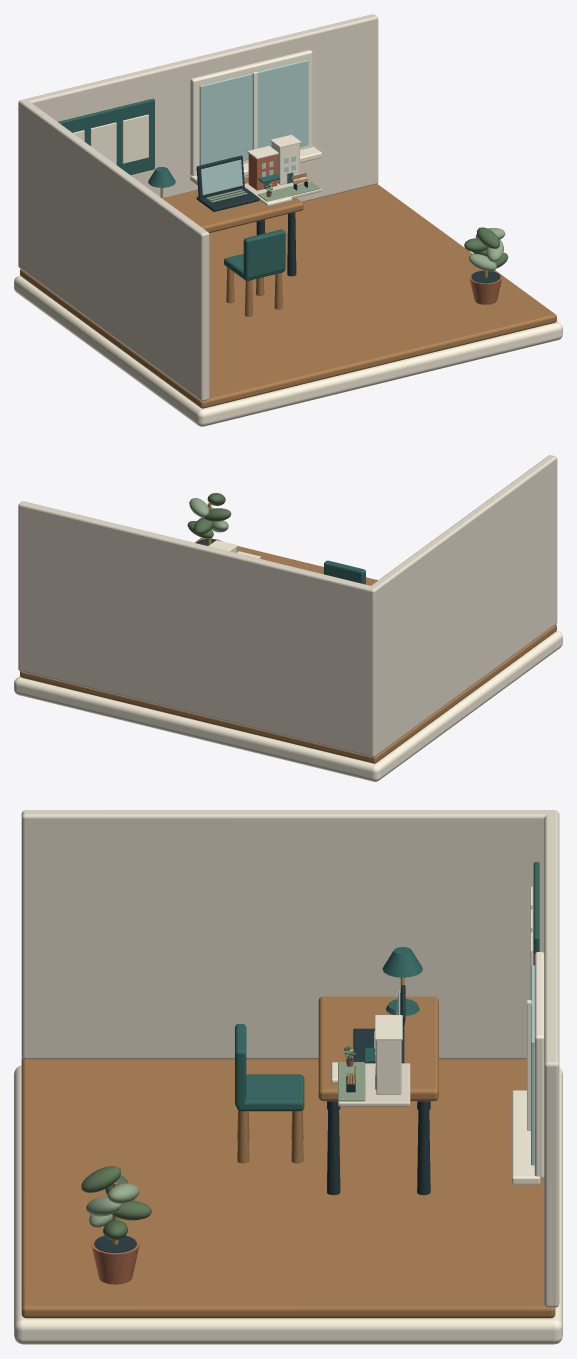
Rendered from business-realestate.glb.
The picture shows the model from 3 angles, top to bottom: view 1: azimuth 30°, elevation 25°; view 2: azimuth 150°, elevation 25°; view 3: azimuth 270°, elevation 25°; orthographic projection. The views are drawn at different scales.
Parts seen in each view (by area): view 1: floor, side-wall, back-wall, foundation, window-glass, desktop, window-frame, listing-board, listing-card (×2), back, building (×2), screen (+5 smaller); view 2: back-wall, side-wall, foundation, floor, back; view 3: side-wall, floor, foundation, back-wall, desktop, window-frame, leg (×2), seat, window-sill, building, street-base, ceramic-pot (+7 smaller).
Boxes of the visible parts, <box> form: floor: <box>20,184,556,408</box>; side-wall: <box>20,100,209,401</box>; back-wall: <box>18,14,378,269</box>; foundation: <box>14,275,562,426</box>; window-glass: <box>199,59,308,165</box>; desktop: <box>163,177,303,232</box>; window-frame: <box>190,50,312,175</box>; listing-board: <box>58,98,154,174</box>; listing-card (×2): <box>90,114,148,164</box>; back: <box>243,229,285,278</box>; building (×2): <box>248,142,299,190</box>; screen: <box>201,159,242,195</box>; back-wall: <box>18,501,377,757</box>; side-wall: <box>371,455,557,754</box>; foundation: <box>14,631,562,781</box>; floor: <box>20,537,556,763</box>; back: <box>324,560,365,584</box>; side-wall: <box>21,810,551,1059</box>; floor: <box>21,1058,555,1318</box>; foundation: <box>14,1065,562,1344</box>; back-wall: <box>544,810,559,1307</box>; desktop: <box>318,996,438,1101</box>; window-frame: <box>534,952,544,1178</box>; leg (×2): <box>327,1101,430,1195</box>; seat: <box>236,1074,304,1111</box>; window-sill: <box>512,1090,540,1184</box>; building: <box>376,1040,401,1094</box>; street-base: <box>338,1063,410,1106</box>; ceramic-pot: <box>91,1235,139,1284</box>.
Size of the model in its own units: 4.1 by 2.06 by 3.65.
